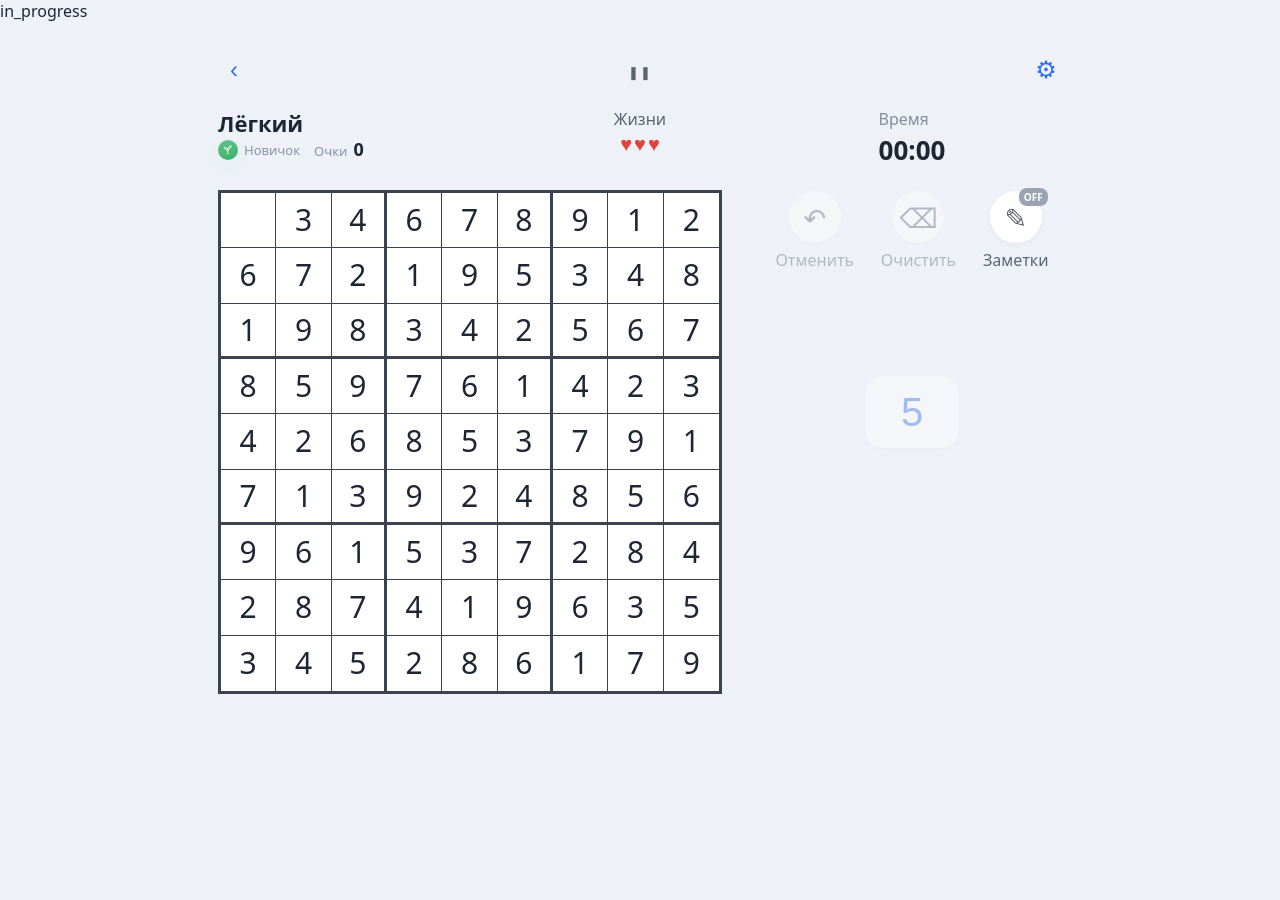
Test: GameScreen › завершение партии показывает WinScreen (победа)
The width and height of the screenshot is (1280, 900).
Click the button with test id "cell-0-0".
click(249, 221)  # box x1=221 y1=193 x2=276 y2=248
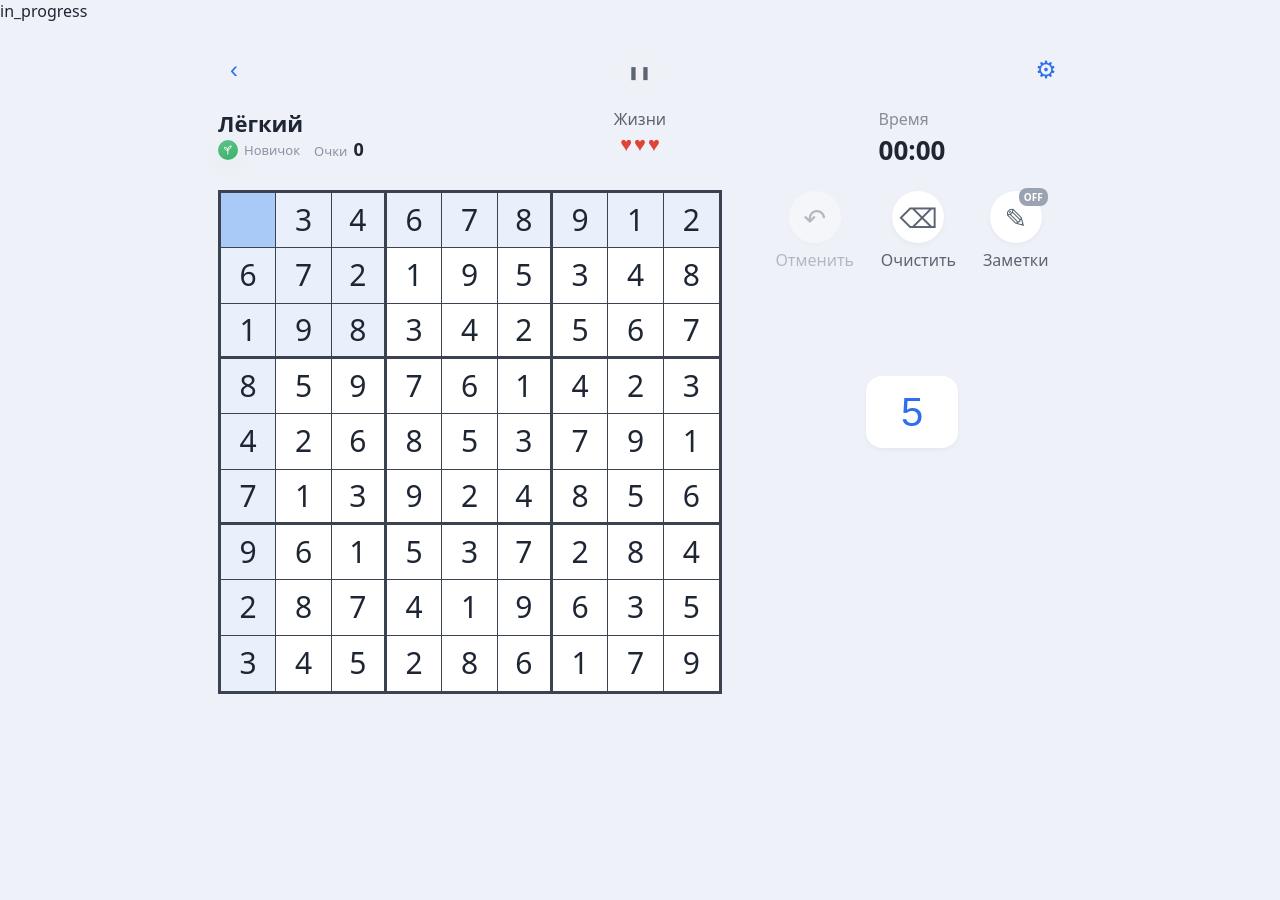
Click the button with test id "digit-5".
click(912, 412)  # box x1=866 y1=376 x2=958 y2=448
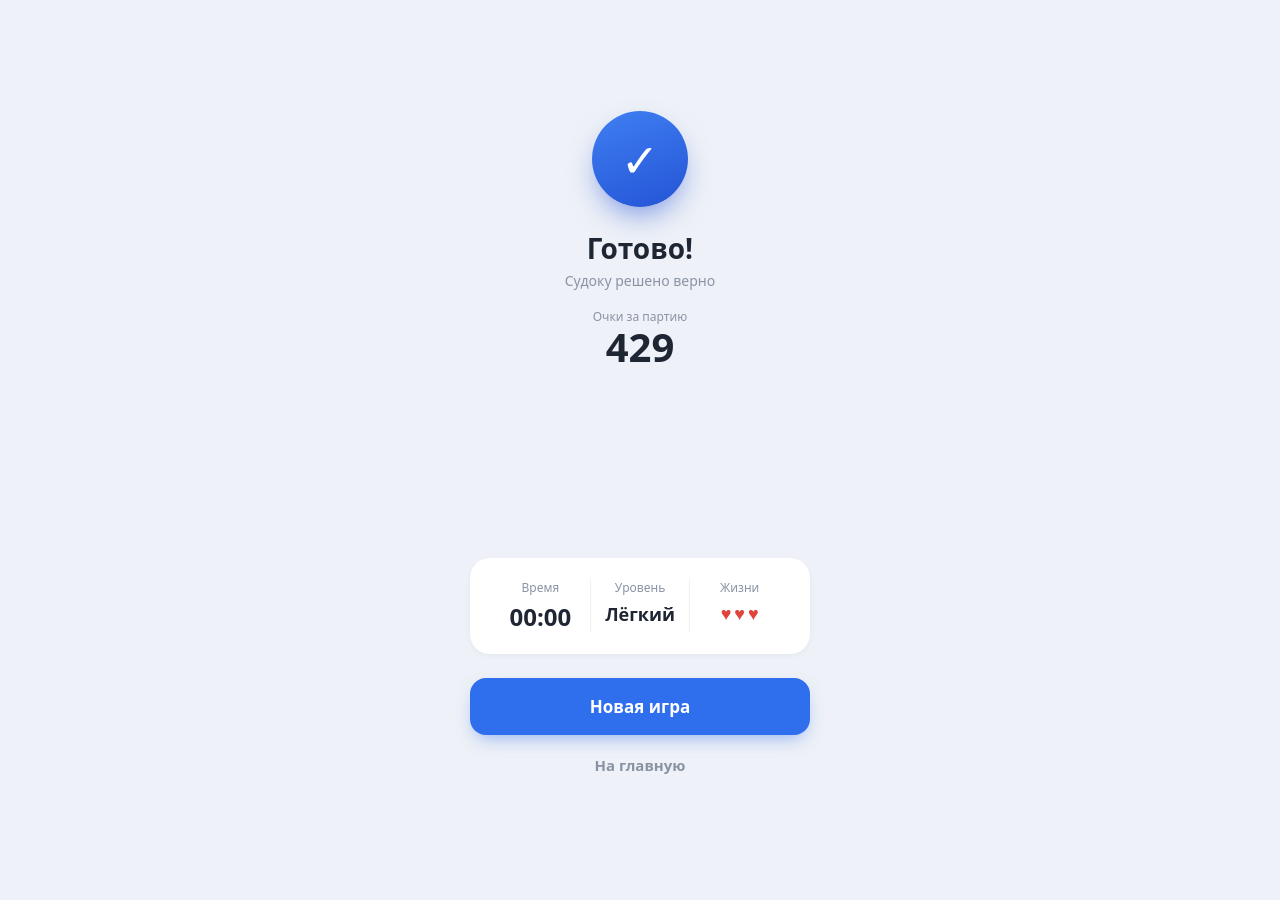
Expected: the element with test id "win-screen-won" is shown, x1=470 y1=111 x2=810 y2=789
